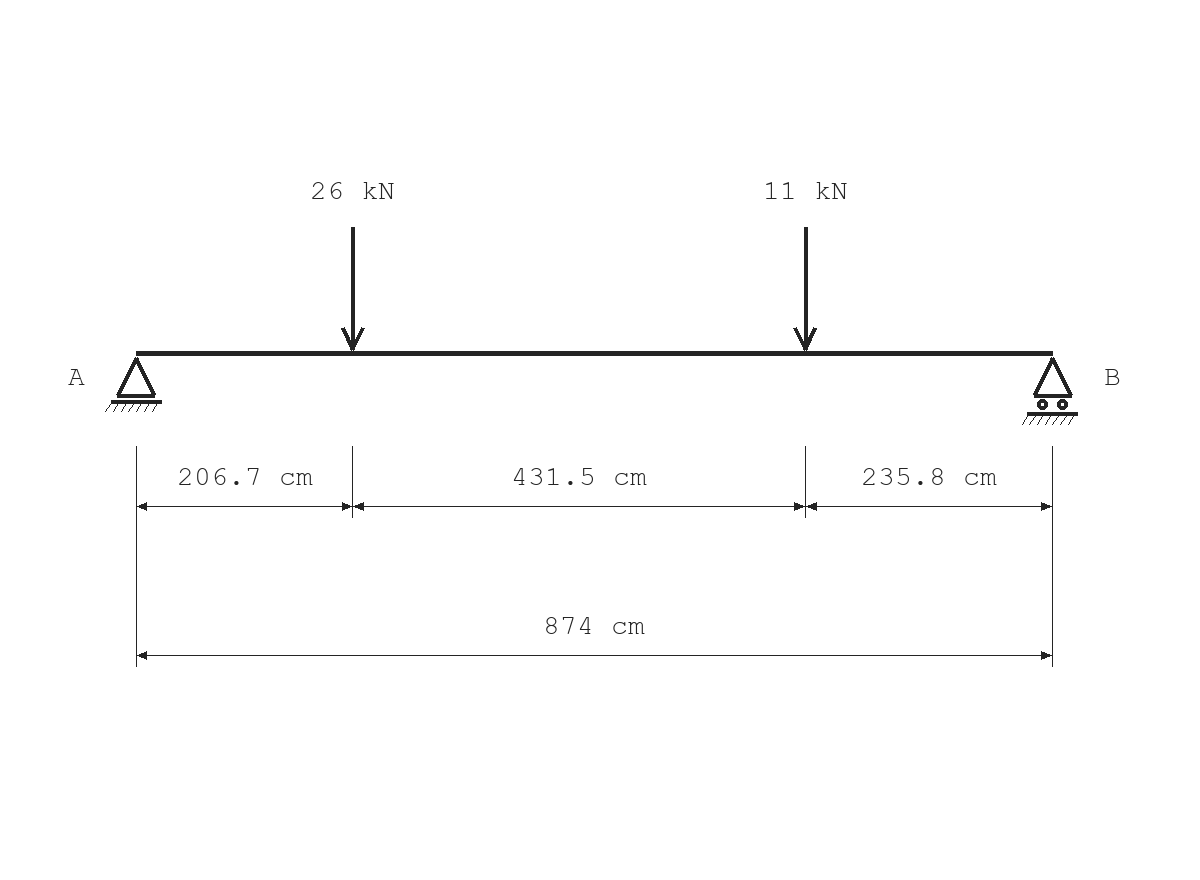pin_support: (105, 357, 162, 412)
point_load: (341, 227, 365, 351), (793, 227, 817, 351)
roller_support: (1022, 357, 1078, 425)
